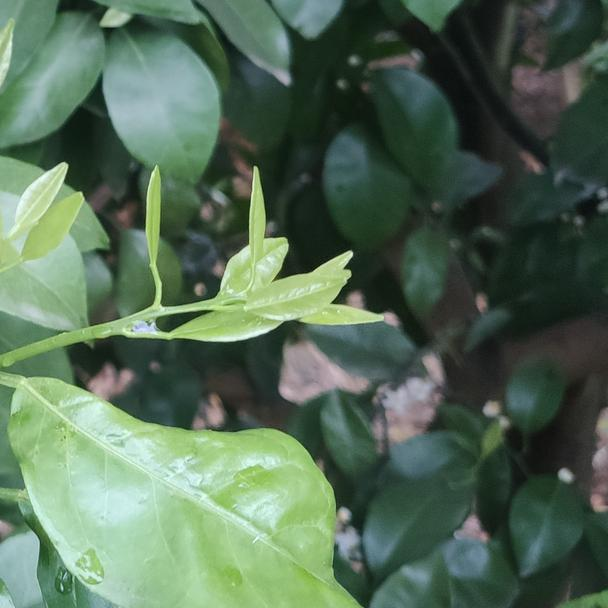shoot: (44, 165, 388, 364)
